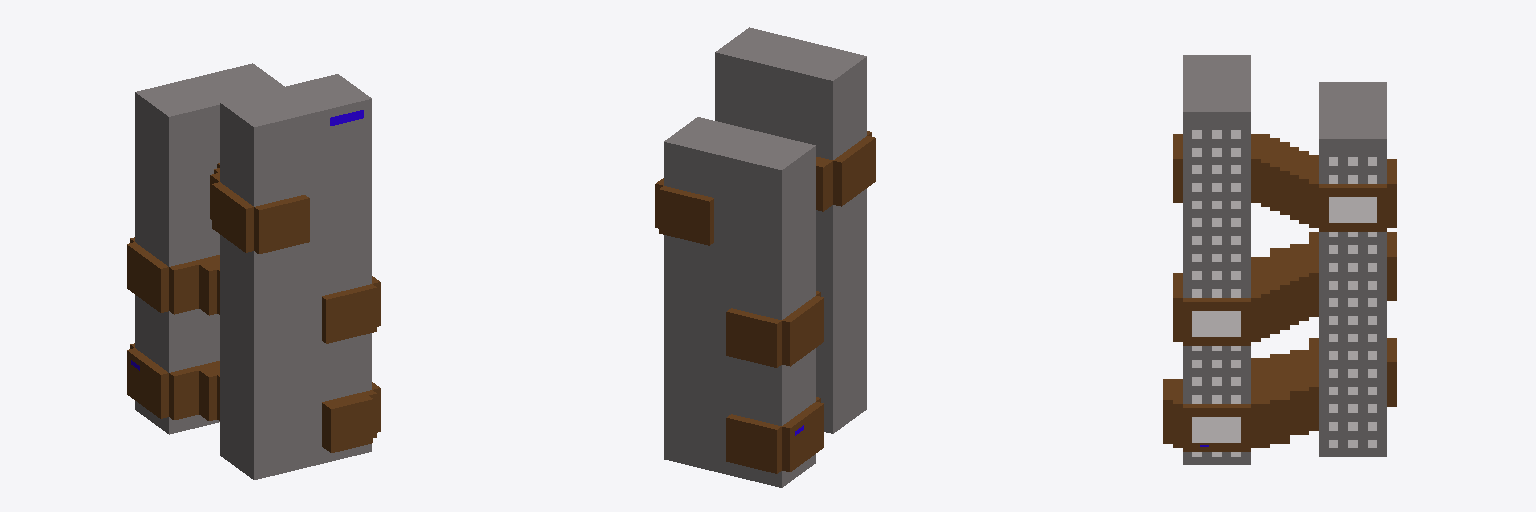
3 views of the same model, side by side, from view 1: azimuth 30°, elevation 25°; view 2: azimuth 150°, elevation 25°; view 3: azimuth 270°, elevation 25° (orthographic).
Visible parts, largest first — view 1: Model; view 2: Model; view 3: Model.
Boxes of the visible parts, <box> form: Model: <box>127,63,380,479</box>; Model: <box>655,27,875,487</box>; Model: <box>1163,55,1396,464</box>.
Size of the model in its own units: 9 by 20 by 12.
1 materials, 1 textured.